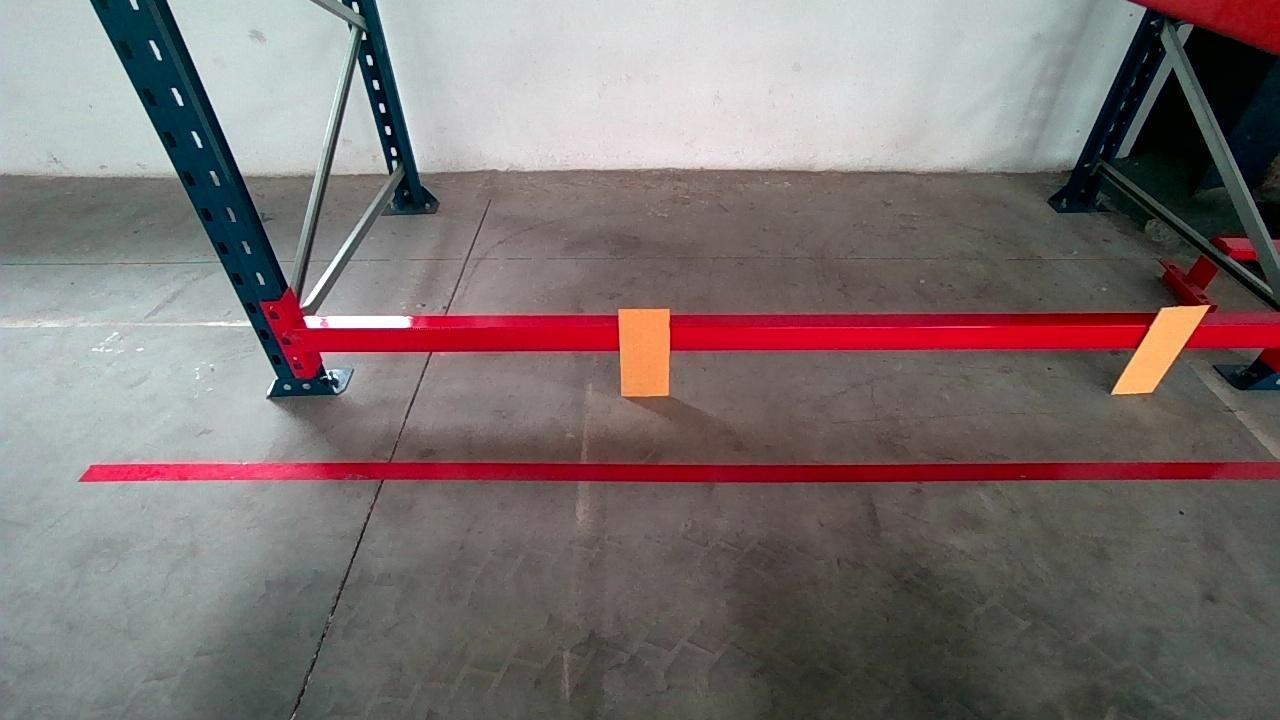h_rack: (302, 305, 1274, 354)
orange_strip: (1112, 305, 1208, 392), (619, 307, 671, 396)
red_line: (72, 451, 1277, 491)
